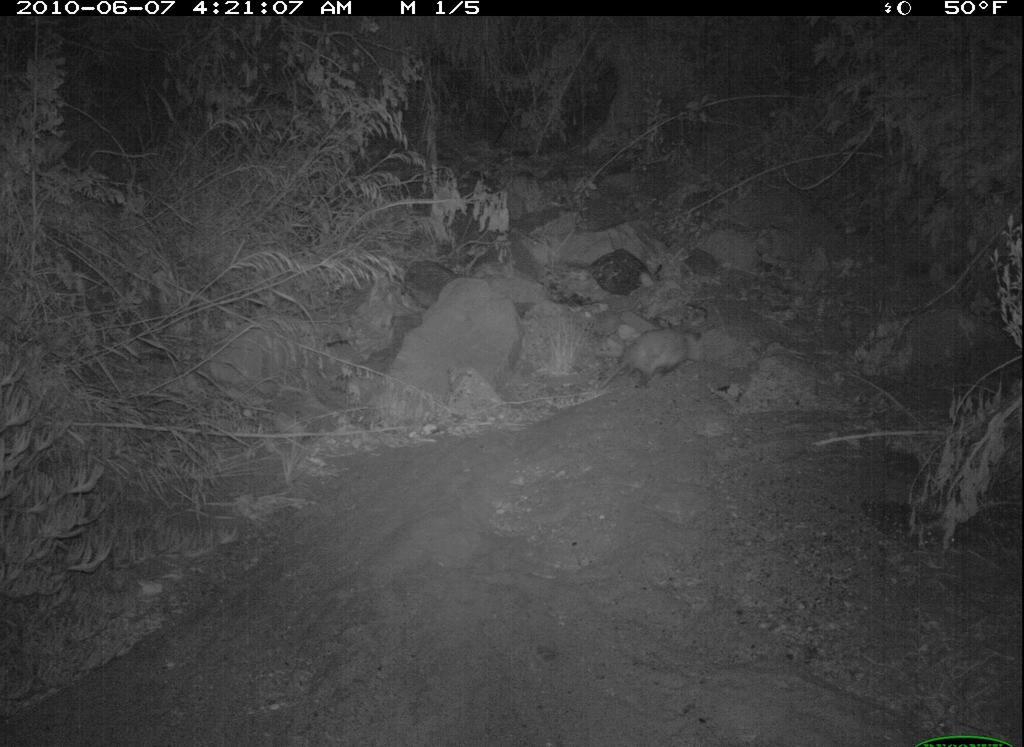opossum: (592, 317, 711, 404)
